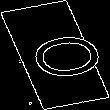O_E: (8, 27, 102, 83)
